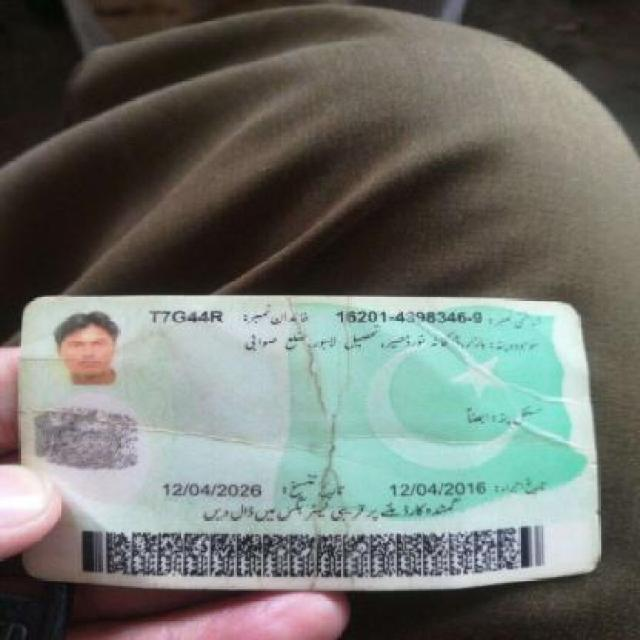Back: (16, 288, 610, 592)
